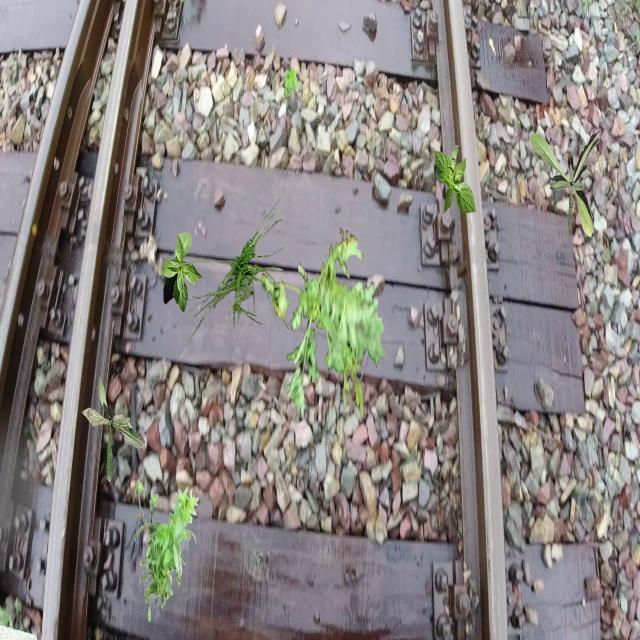Plant: (262, 228, 387, 424), (173, 197, 292, 360), (135, 479, 200, 622), (530, 131, 602, 239), (82, 371, 146, 483), (161, 233, 203, 313), (435, 145, 477, 216), (283, 67, 304, 100)
